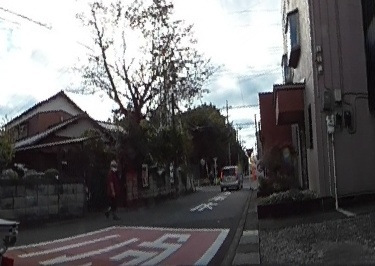person: (104, 159, 121, 218)
